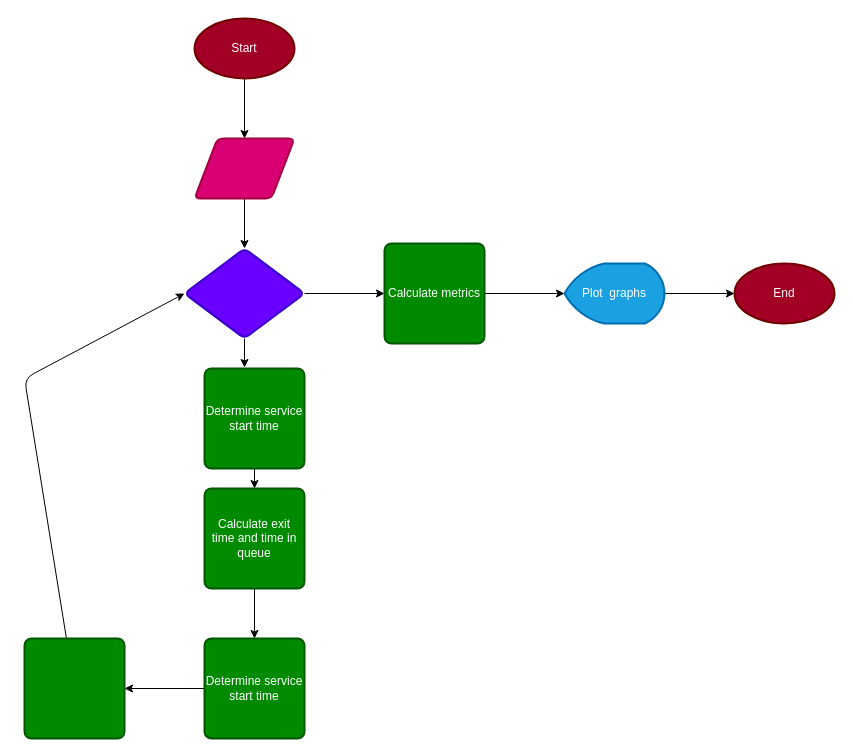
Image size: 853x756. Some labels were removed from this diagram. The centre of each missing label's shape, as x and y in pixels:
"Initialize Variables" goes at (244,168).
"Loop through remaining customers" goes at (244,293).
"Update number of customers in system and queue" goes at (74,688).
